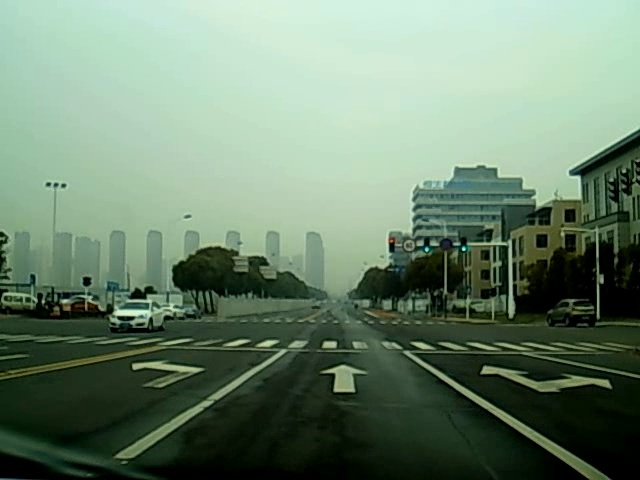Traffic_Light_go: (460, 237, 467, 257), (424, 237, 431, 255)
Traffic_Light_stop: (388, 238, 396, 255)
